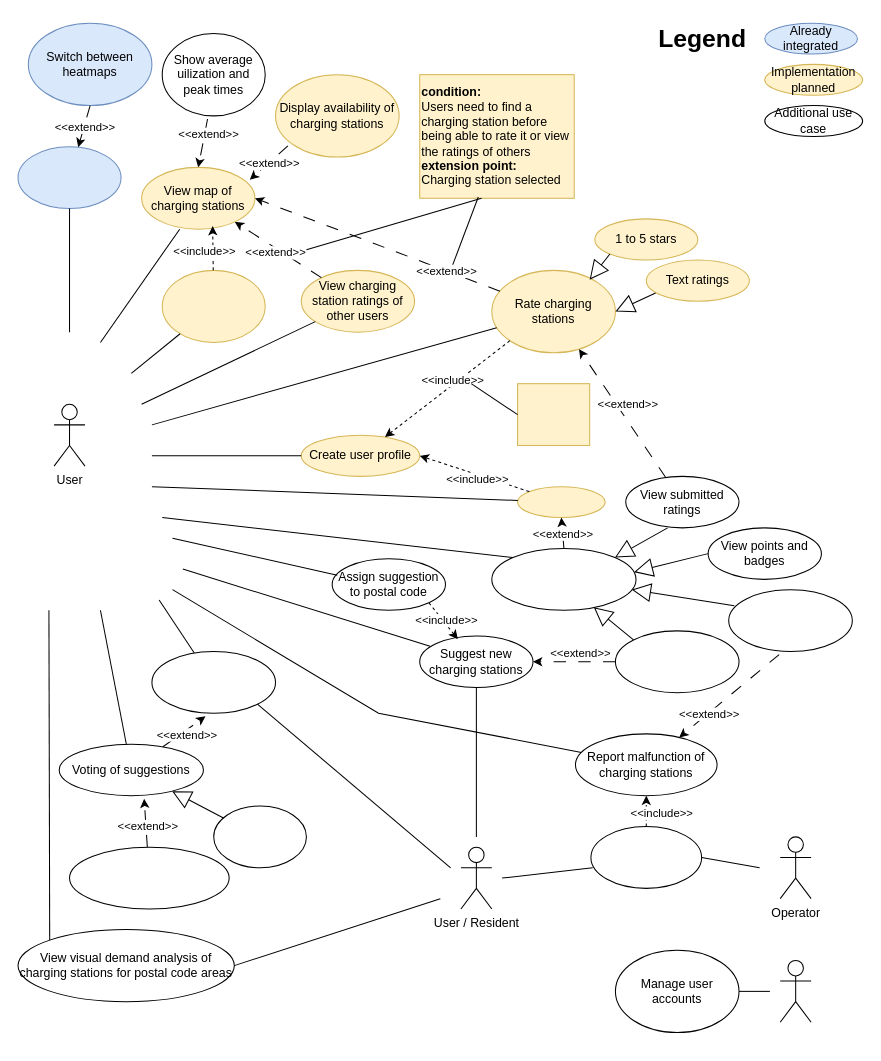
Image size: 881x1061. Some labels were removed from this diagram. The shapes that lost their labels are listed below. From the top down, each one's centre as x and y in pixels, then its label:
At [69,177]: "View heatmaps".
At [213,305]: "Search charging stations by postal code".
At [553,414]: "note: only logged in users can rate".
At [561,502]: "View user profile".
At [563,578]: "View profile feedback history".
At [790,620]: "View submitted malfunction reports".
At [213,681]: "View location suggestions of other users".
At [676,661]: "View submitted location suggestions".
At [259,836]: "Thumbs up / down".
At [148,877]: "Displaying number of votes + top 3 highlighting".
At [646,857]: "View malfunction reports".
At [795,990]: "System Admin".
